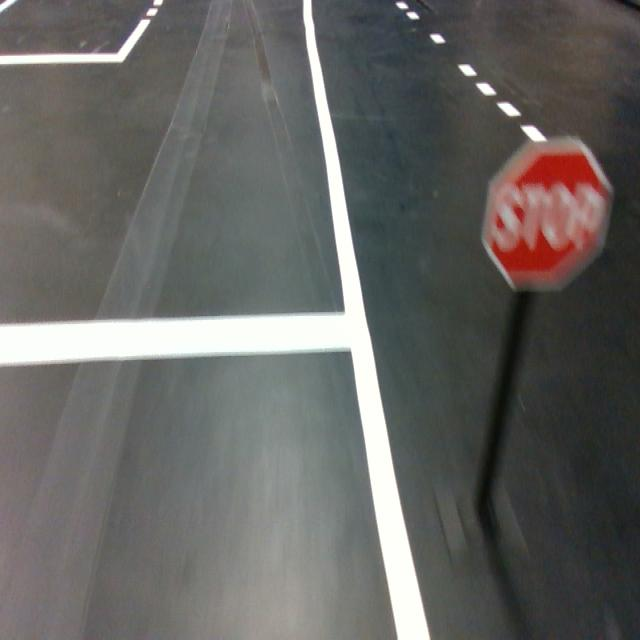stop-sign: (480, 136, 615, 293)
